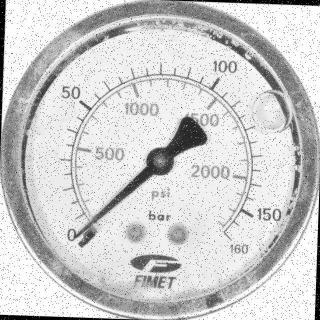gauge: (0, 0, 320, 320), (64, 217, 102, 260), (212, 224, 246, 256), (145, 145, 175, 176), (67, 228, 83, 245)
